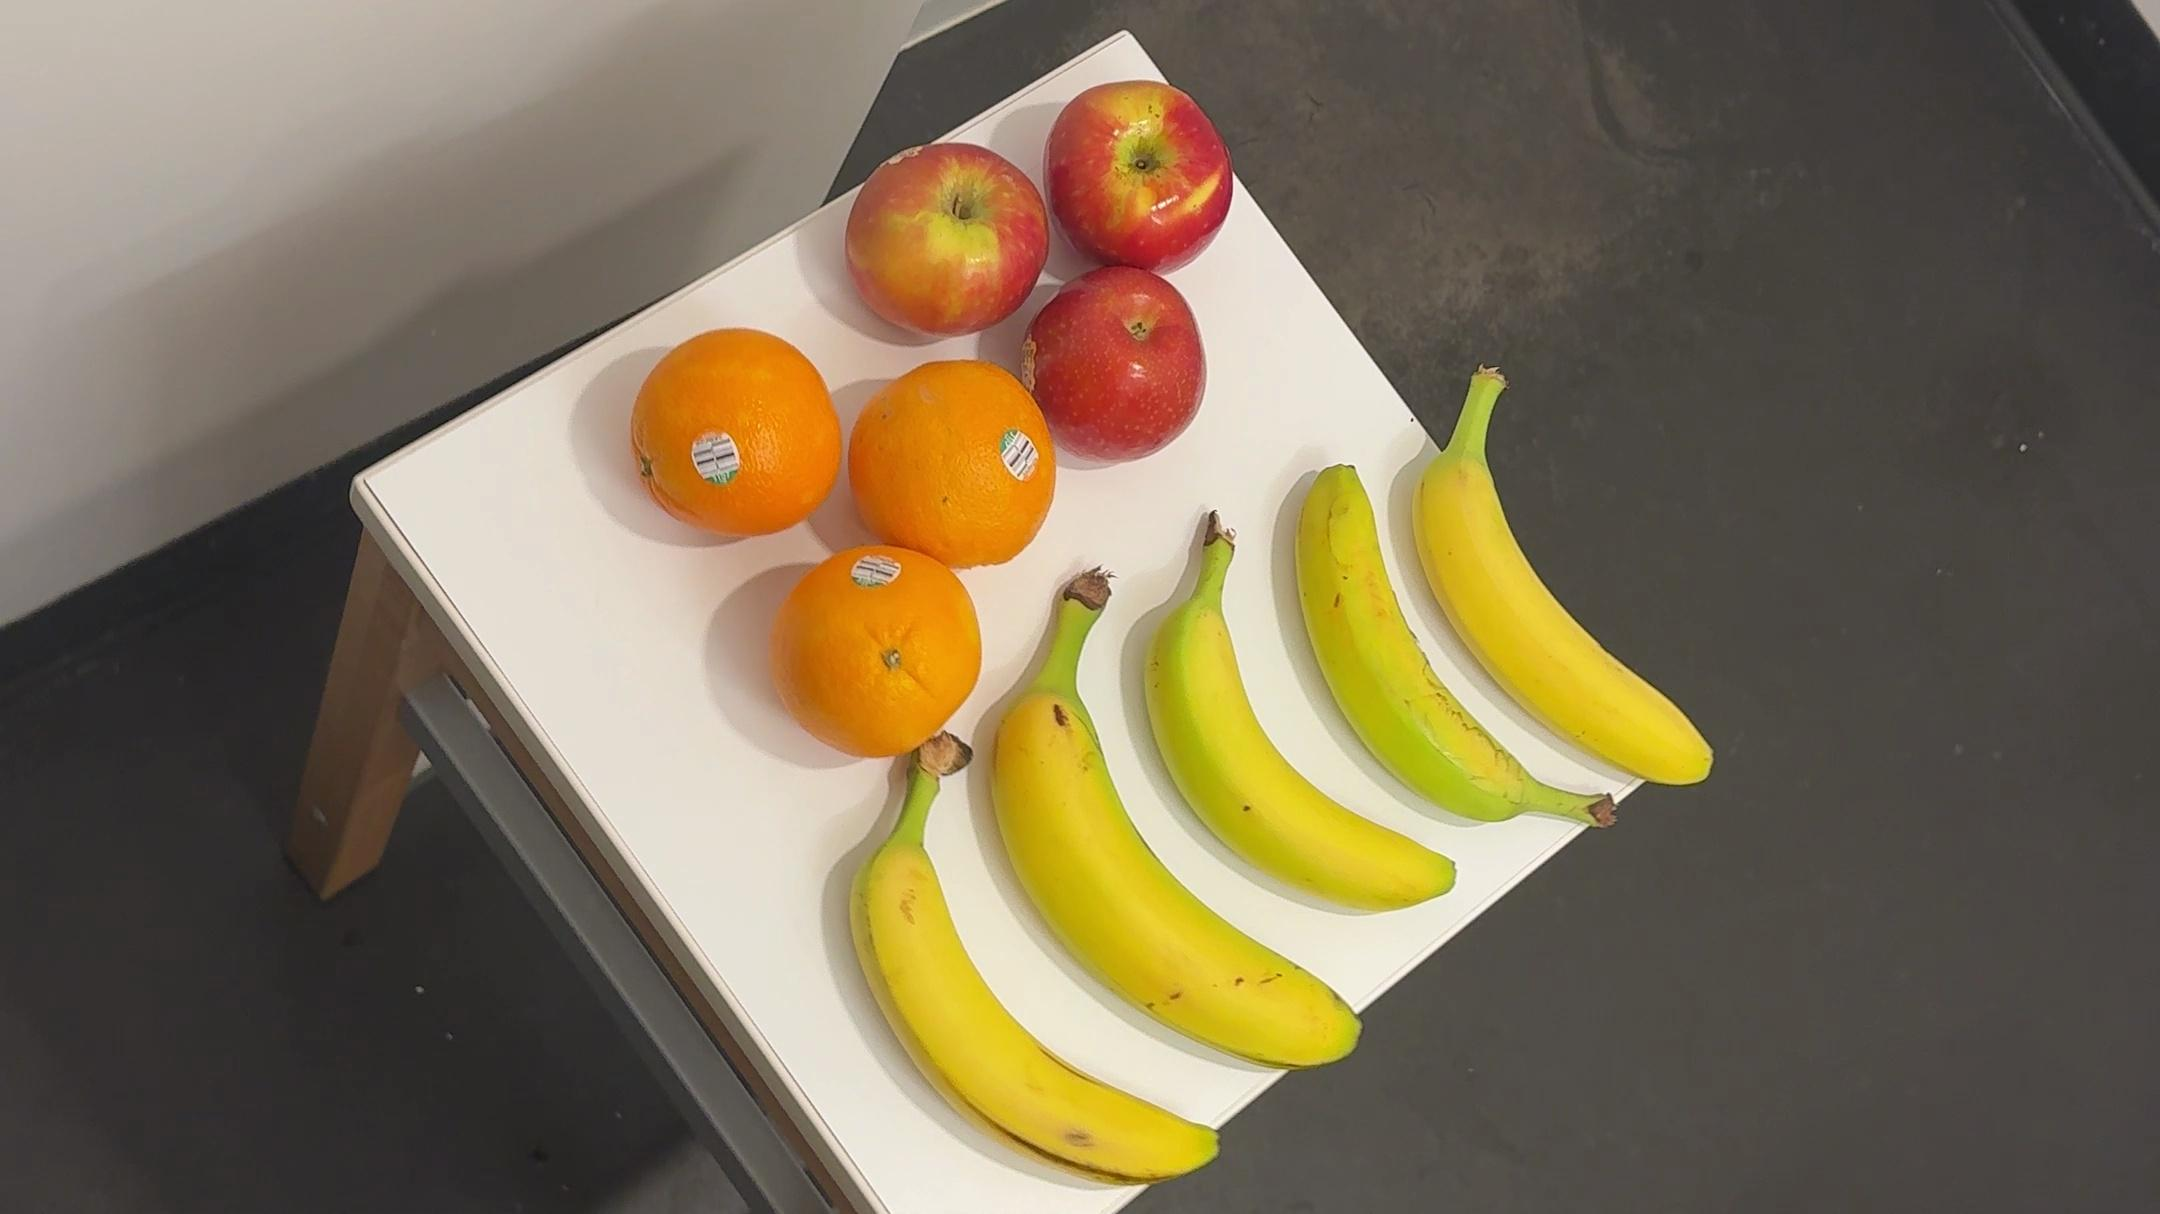apple: (841, 141, 1047, 350), (1030, 257, 1219, 465), (1049, 83, 1243, 282)
banana: (975, 567, 1363, 1085), (831, 738, 1221, 1184), (1130, 509, 1464, 931), (1400, 355, 1716, 795), (1295, 457, 1627, 855)
orange: (855, 352, 1053, 571), (633, 329, 831, 548), (780, 537, 969, 758)
